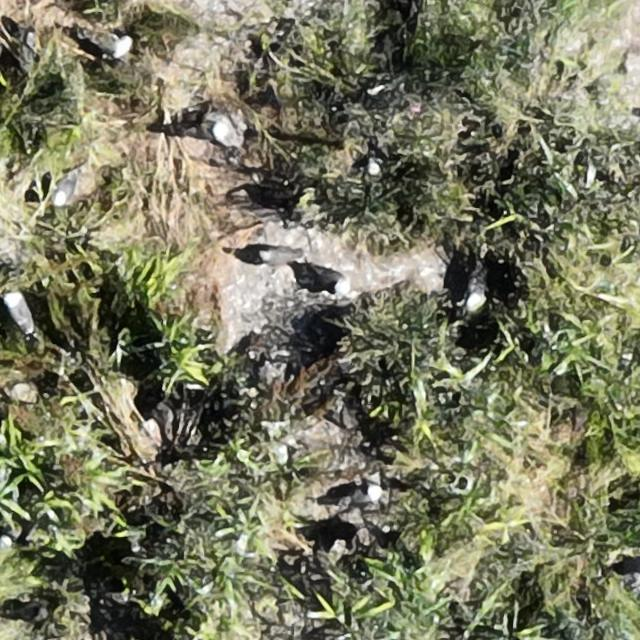umineko: (8, 293, 33, 332), (343, 486, 384, 508), (258, 247, 300, 264), (52, 178, 76, 206), (466, 278, 485, 310), (111, 35, 132, 60)
